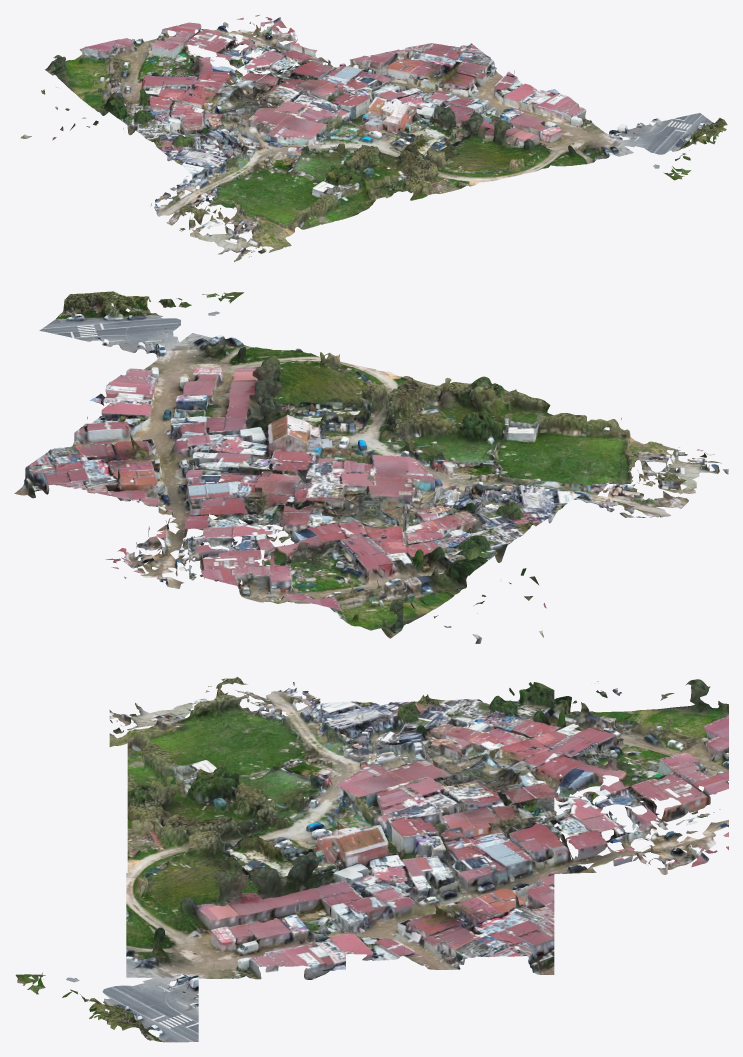
The model's file is bairro_04.glb.
3 renders of one model, top to bottom at view 1: azimuth 30°, elevation 25°; view 2: azimuth 150°, elevation 25°; view 3: azimuth 270°, elevation 25°, orthographic. The views are drawn at different scales.
Visible parts, largest first — view 1: bairro_04; view 2: bairro_04; view 3: bairro_04.
Boxes of the visible parts, x1,y1,x2,y2 form: bairro_04: (20, 15, 727, 261); bairro_04: (14, 291, 728, 643); bairro_04: (15, 677, 728, 1042).
Size of the model in its own units: 188 by 14.82 by 158.
1 material, 1 textured.
